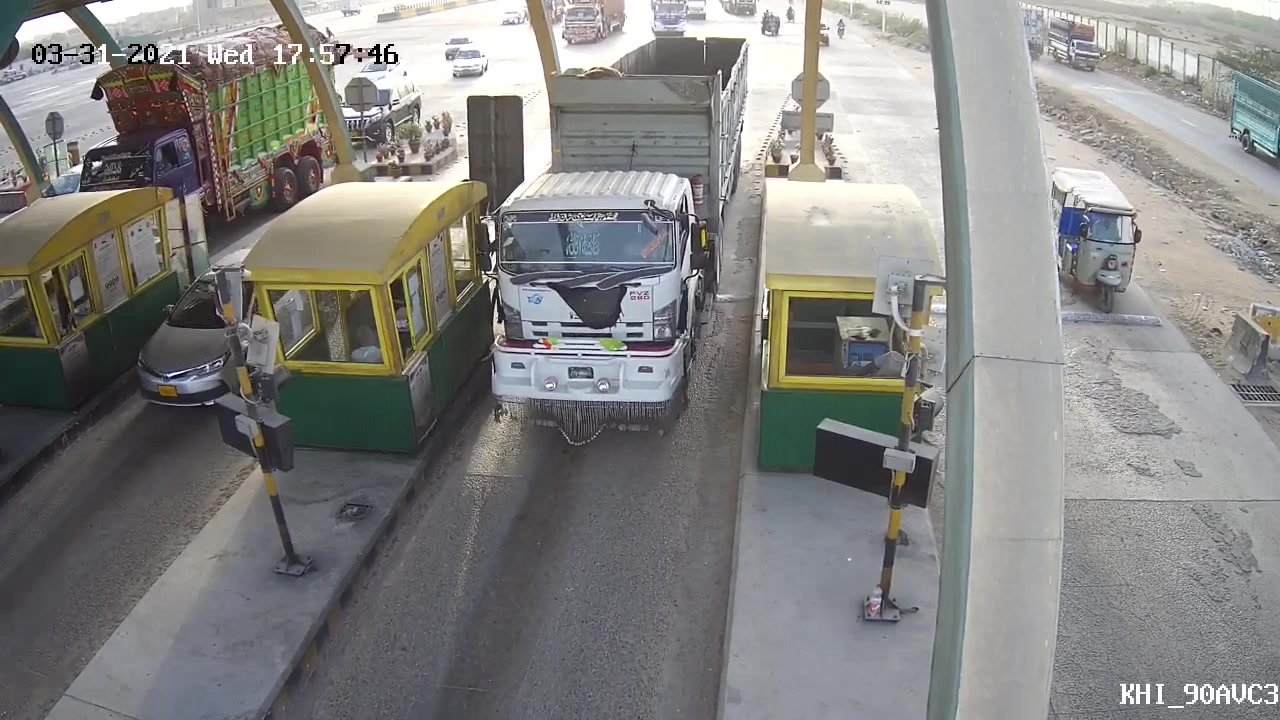F5: (456, 32, 757, 445)
